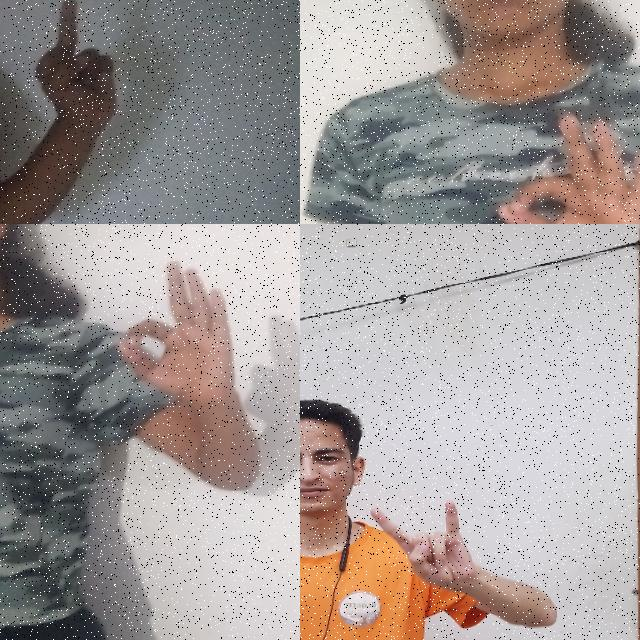Corna: (365, 496, 487, 600)
Middle Finger: (30, 0, 130, 150)
Okay: (108, 250, 252, 438), (488, 103, 640, 224)
